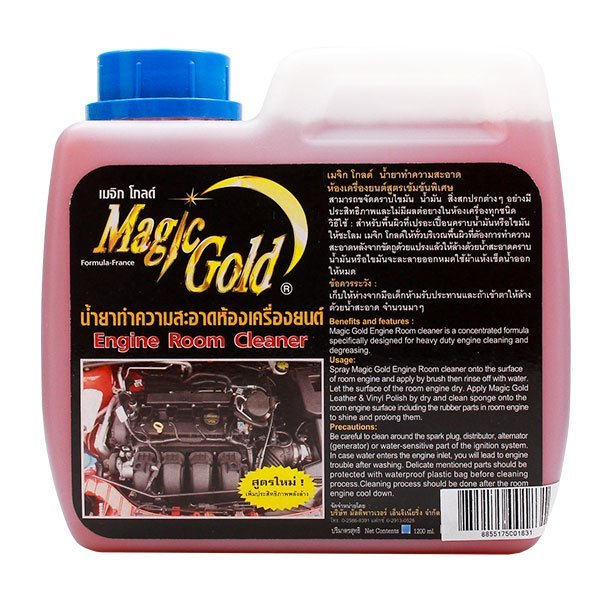Cleaning_solution: (37, 35, 577, 563)
